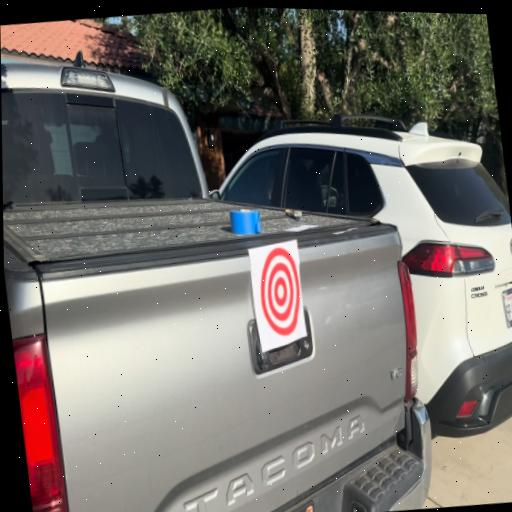bullseye: (254, 240, 306, 350)
